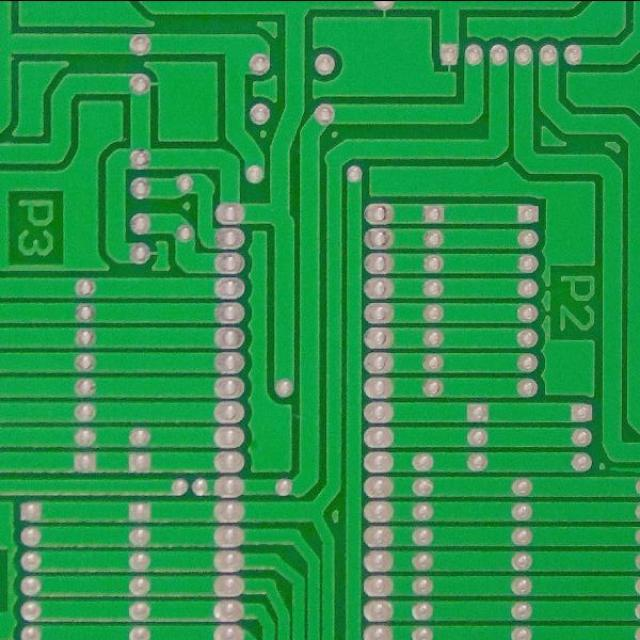spurious_copper: (609, 461, 639, 476)
